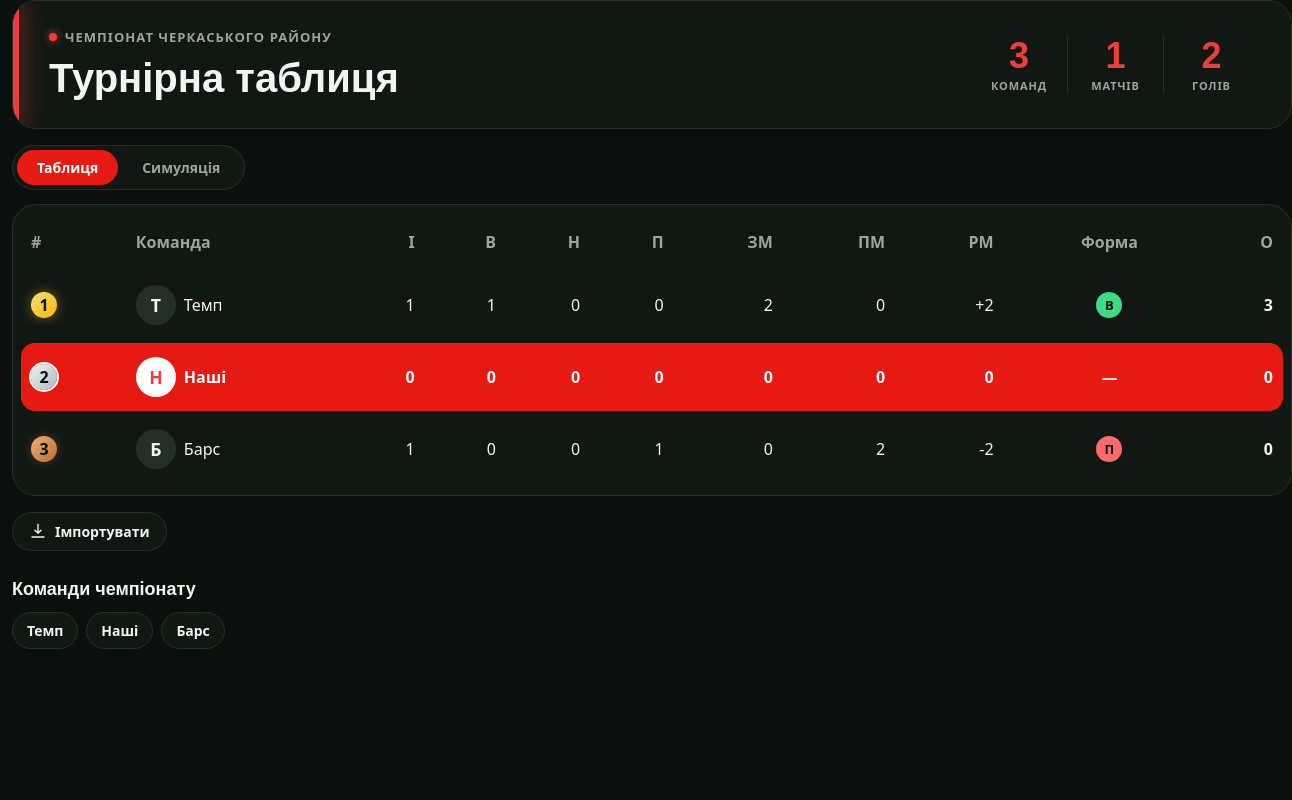
Scenario: StandingsPage simulation › recalculates the table when both scores of one match are typed, leaving the other empty
The width and height of the screenshot is (1292, 800).
Click the button "Симуляція" at (181, 167), box [122, 150, 240, 185]
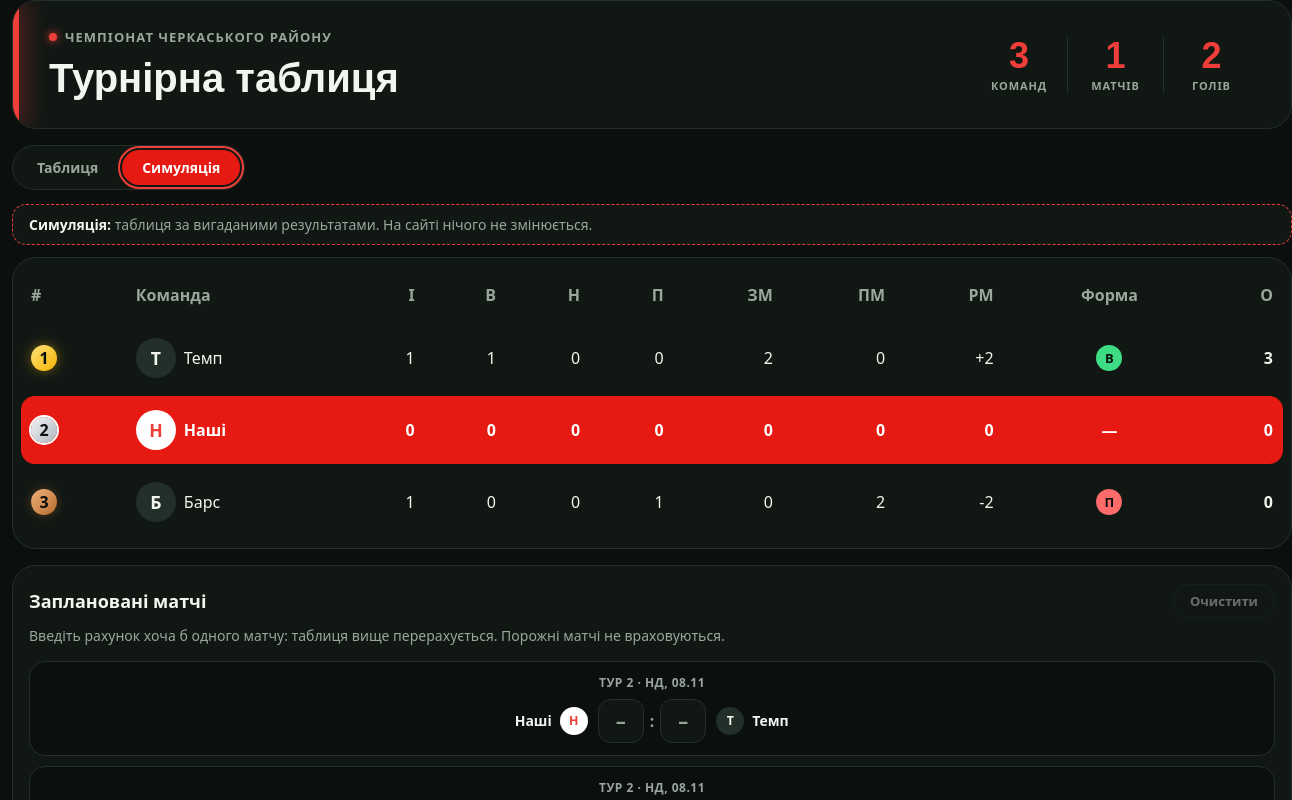
Type "4" into the 1st field with placeholder "–" at (621, 721), box [598, 699, 644, 743]
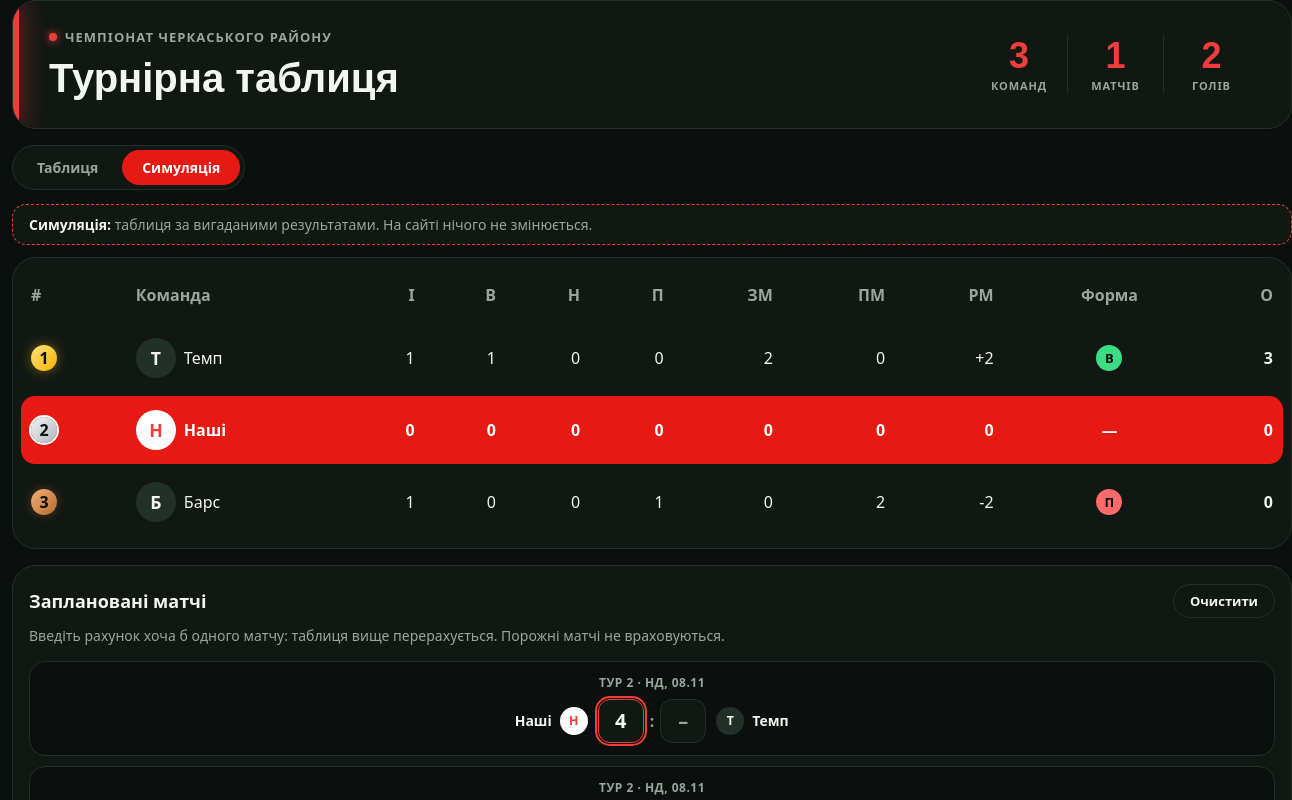
Type "0" into the field with placeholder "–" at (683, 721), box [660, 699, 706, 743]
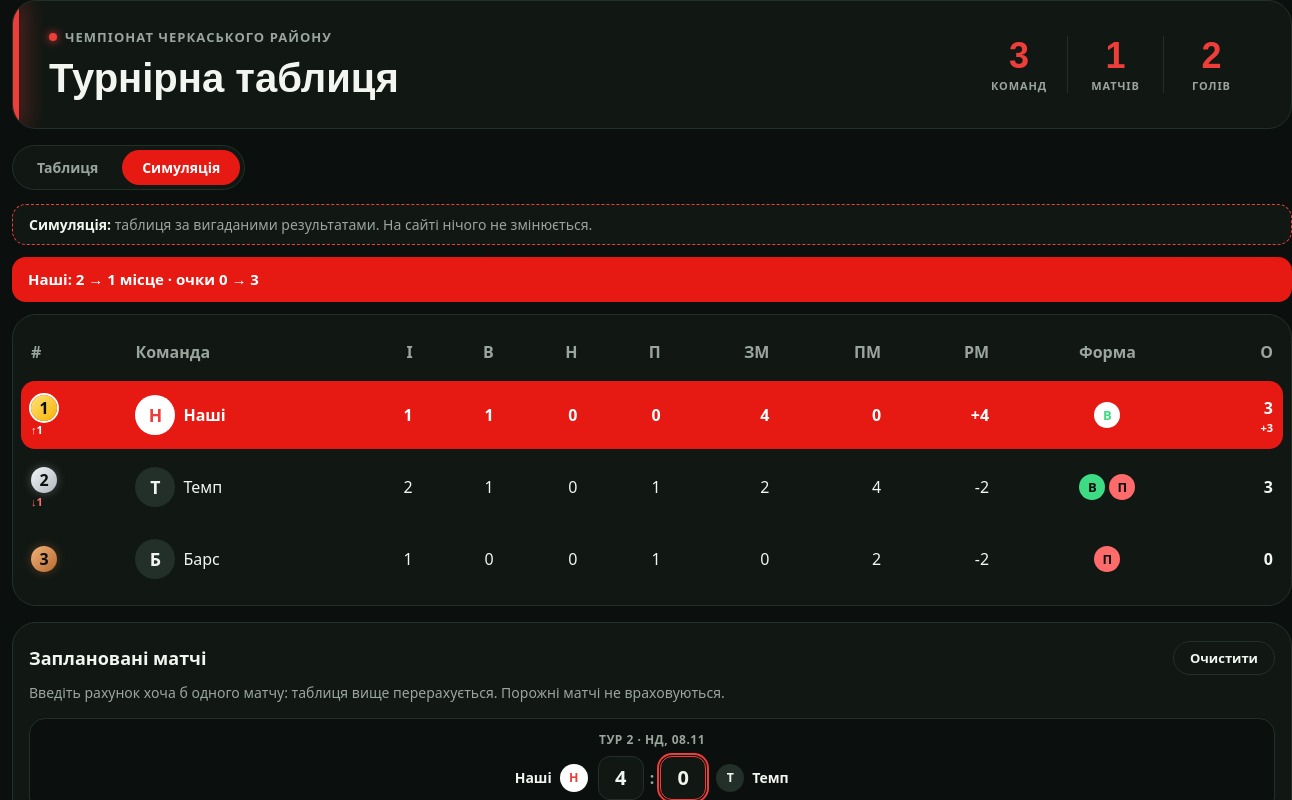
Check: the message shows "Наші: 2 → 1 місце", box [12, 258, 1291, 302]
Check: the element named "Вище на 1" is shown, box [31, 422, 43, 438]
Check: the element named "Нижче на 1" is shown, box [31, 494, 43, 510]
